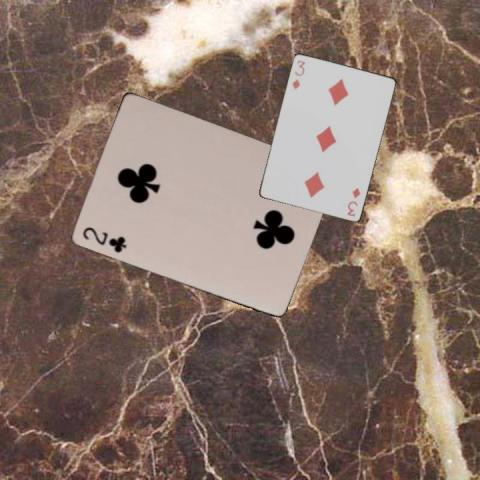2c: (80, 224, 128, 255)
3d: (289, 57, 306, 91), (344, 185, 361, 217)
